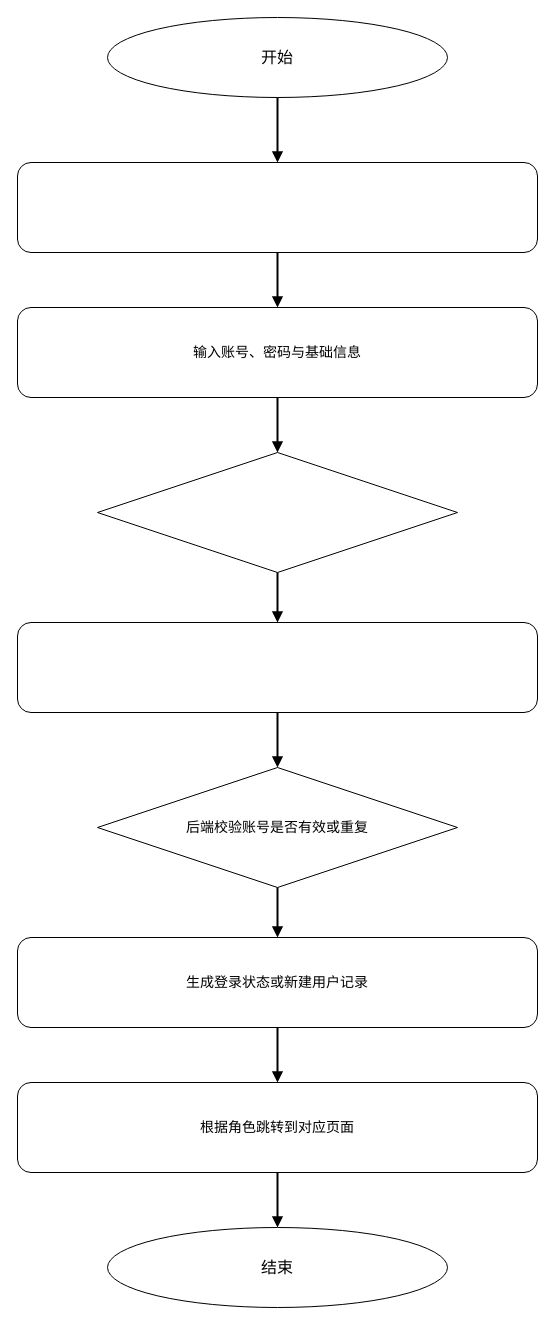
This 555x1325 diagram has some shape labels left out. Each missing label, with the box of its shape:
前端格式校验是否通过: (96, 452, 458, 572)
用户打开登录/注册页面: (16, 162, 538, 252)
调用认证接口并提交请求: (16, 622, 538, 712)
